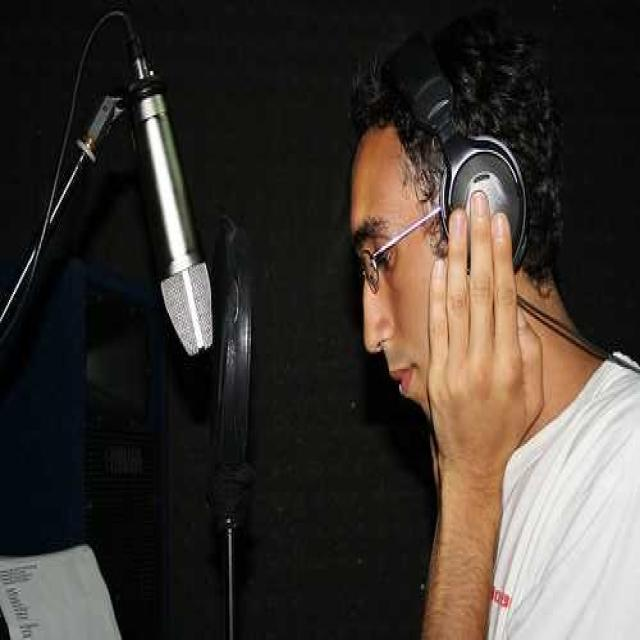microphone: (130, 69, 211, 356)
